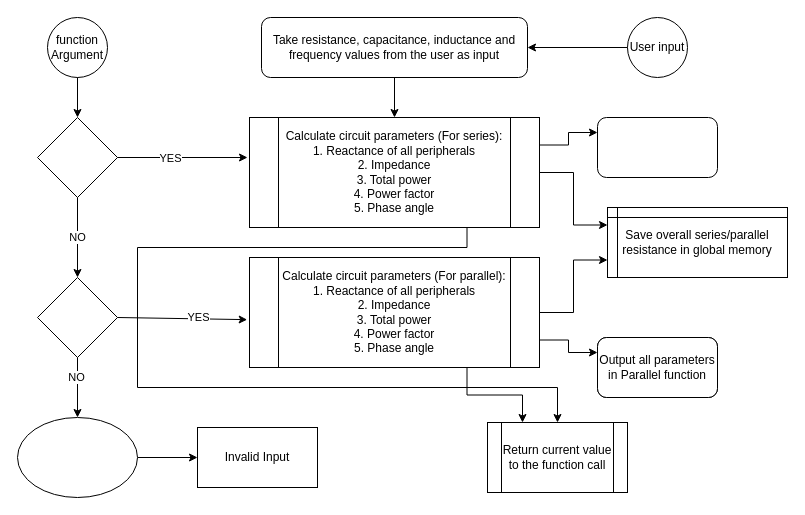
This 805x515 diagram has some shape labels left out. The centre of each missing label's shape, as x and y in pixels:
"Default" goes at (x=77, y=457).
"Output all parameters in Series function" goes at (x=657, y=147).
"Parallel" goes at (x=77, y=317).
"Series" goes at (x=77, y=157).
